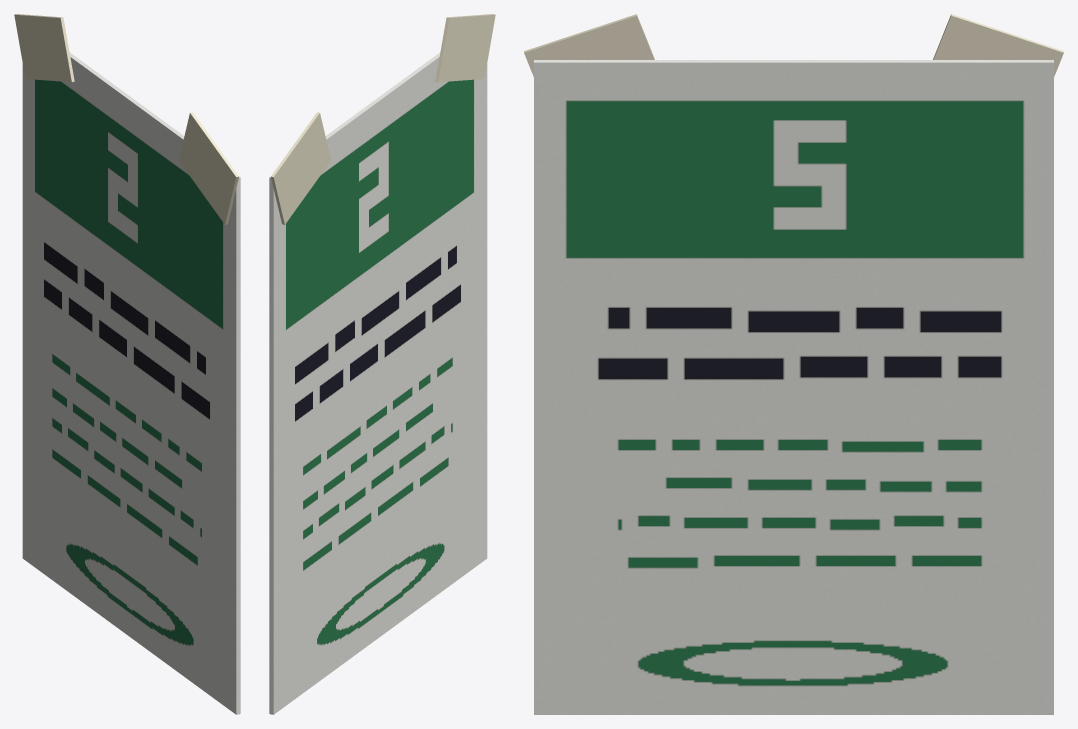
Rendered from escena.casa.afiche_lista.fbx.
3 views of the same model, side by side, from view 1: azimuth 30°, elevation 25°; view 2: azimuth 150°, elevation 25°; view 3: azimuth 270°, elevation 25° (orthographic). The views are drawn at different scales.
Visible parts, largest first — view 1: Afiche, Cinta.001, Cinta; view 2: Afiche, Cinta, Cinta.001; view 3: Afiche, Cinta, Cinta.001.
Part boxes in pixels (x1,y1,x2,y2): Afiche: (22,52,240,714); Cinta.001: (178,112,238,224); Cinta: (14,14,74,82); Afiche: (269,52,487,714); Cinta: (271,112,331,224); Cinta.001: (435,14,495,82); Afiche: (534,60,1053,714); Cinta: (933,14,1063,76); Cinta.001: (524,14,654,76).
Size of the model in its own units: 0.006 by 0.3841 by 0.2701.
2 materials, 1 textured.
